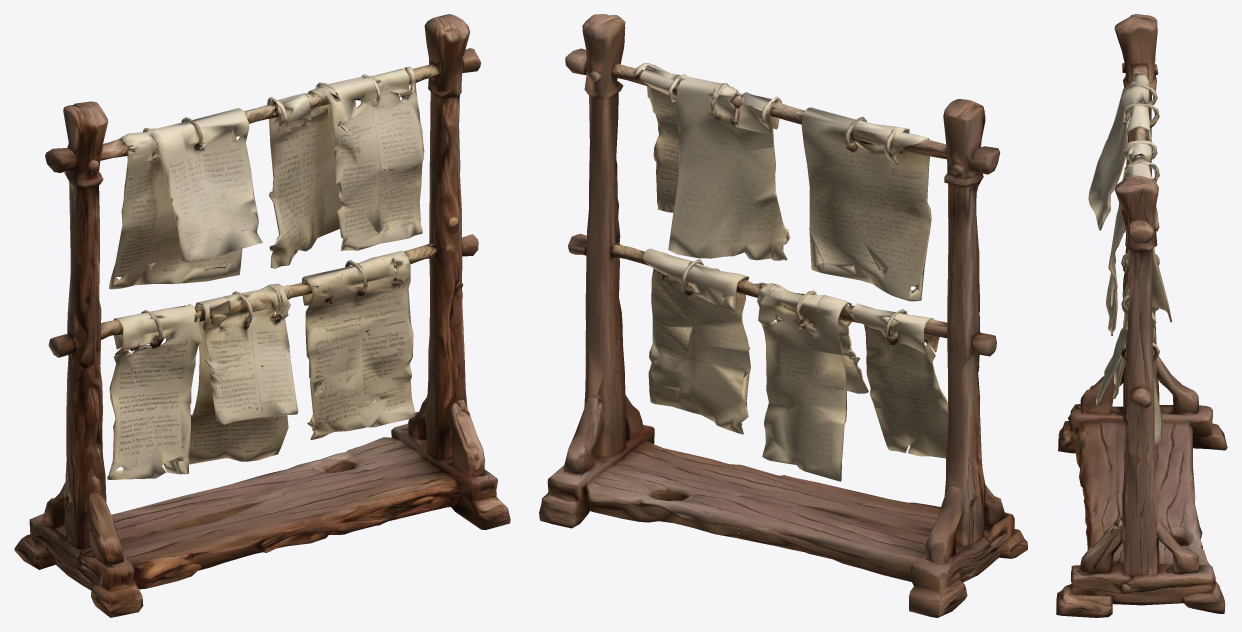
Rendered from drying_rack.glb.
3 renders of one model, left to right at view 1: azimuth 30°, elevation 25°; view 2: azimuth 150°, elevation 25°; view 3: azimuth 270°, elevation 25°, orthographic. The views are drawn at different scales.
Parts seen in each view (by area): view 1: tripo_node_a7b35823-efa1-4307-b5f1-252976f44e73; view 2: tripo_node_a7b35823-efa1-4307-b5f1-252976f44e73; view 3: tripo_node_a7b35823-efa1-4307-b5f1-252976f44e73.
Part boxes in pixels (x1,y1,x2,y2): tripo_node_a7b35823-efa1-4307-b5f1-252976f44e73: [14, 14, 510, 617]; tripo_node_a7b35823-efa1-4307-b5f1-252976f44e73: [539, 14, 1027, 617]; tripo_node_a7b35823-efa1-4307-b5f1-252976f44e73: [1056, 14, 1227, 617].
Size of the model in its own units: 0.914 by 0.9783 by 0.3528.
1 material, 1 textured.
